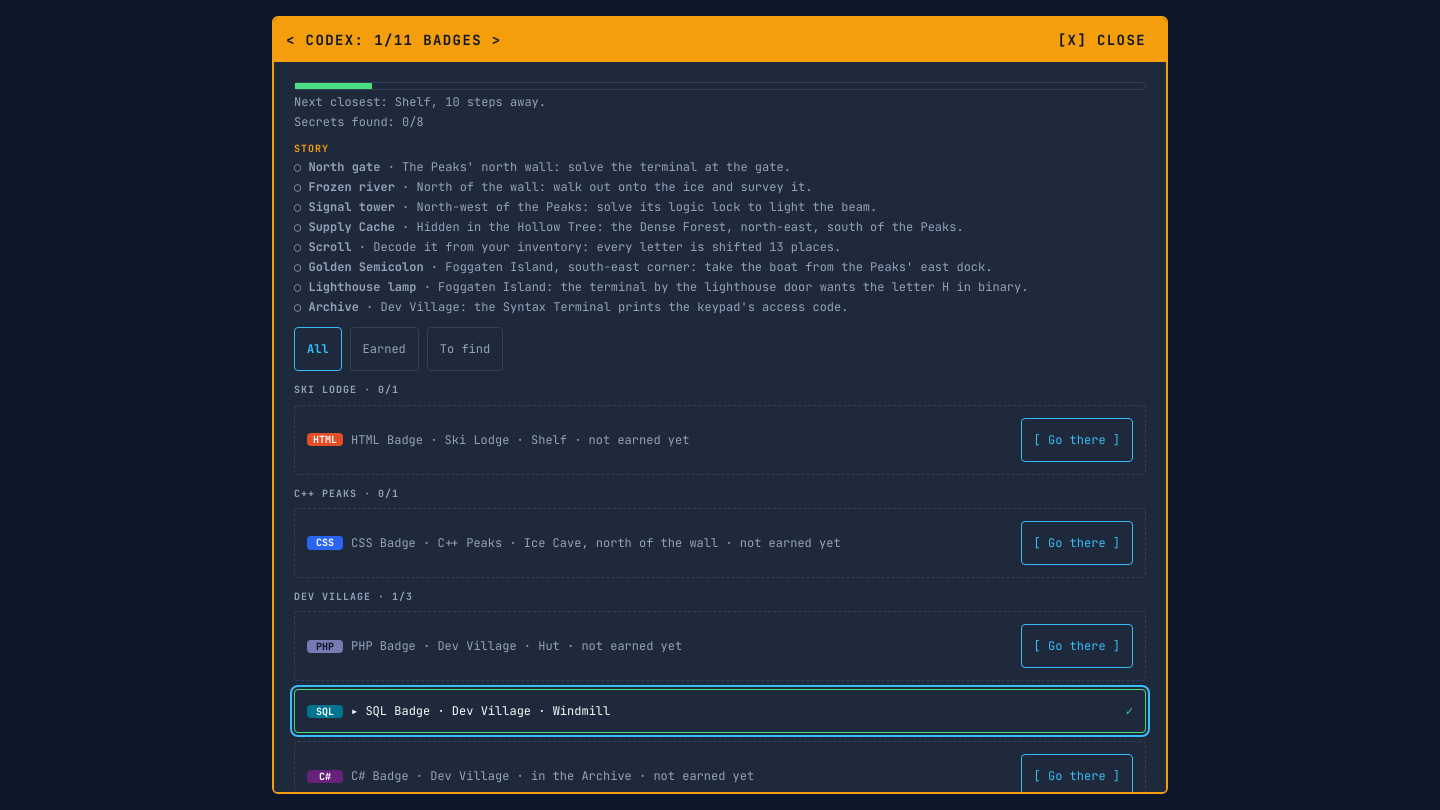
Codex › an earned chest with a late pick shows that question and its explanation (Review Focus 4)
The image size is (1440, 810).
Click the button "SQL ▸ SQL Badge · Dev Village · Windmill ✓": (325, 711) [294,689,1146,733]
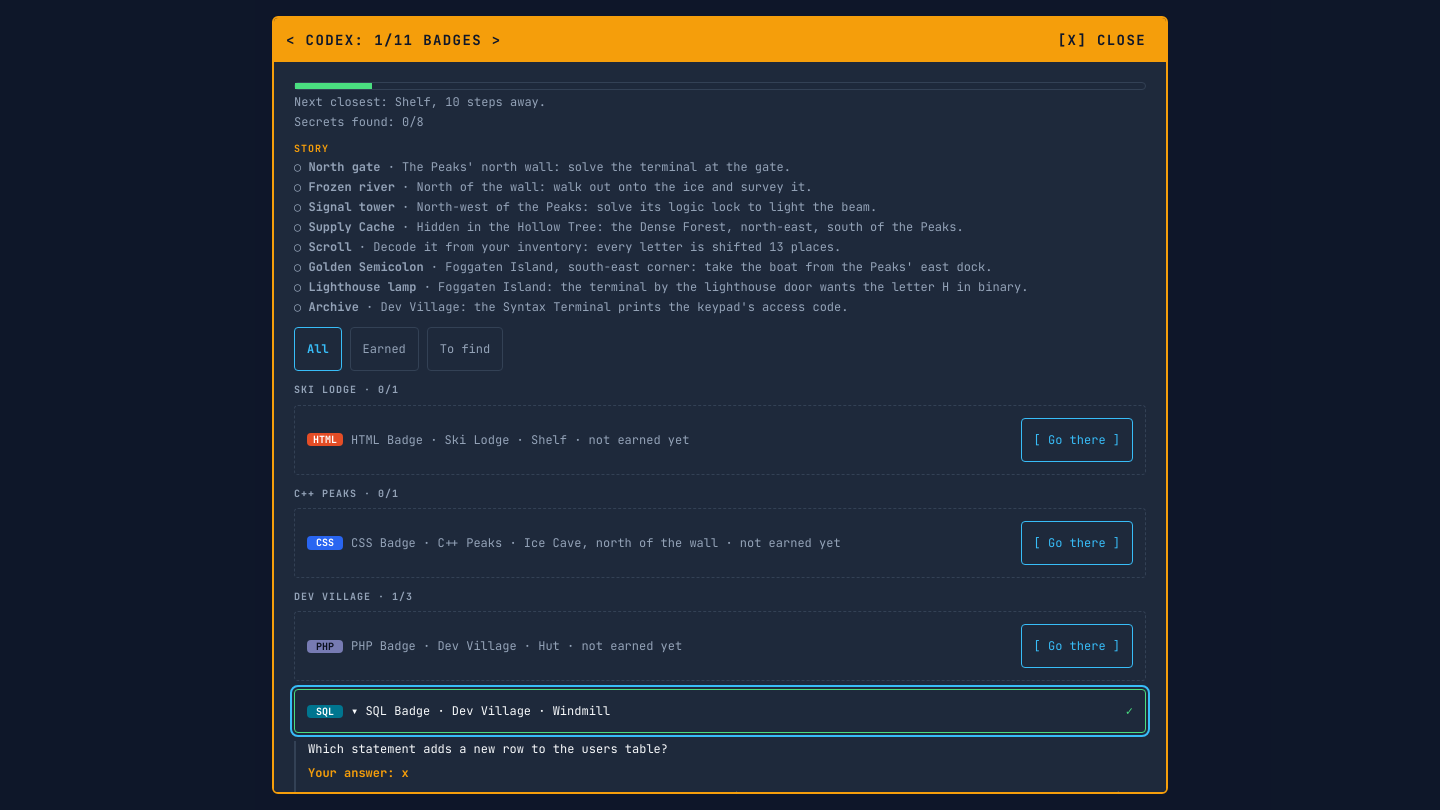
Result: the text "Which statement adds a new row to the users table?" is shown at [308,741,668,757]
